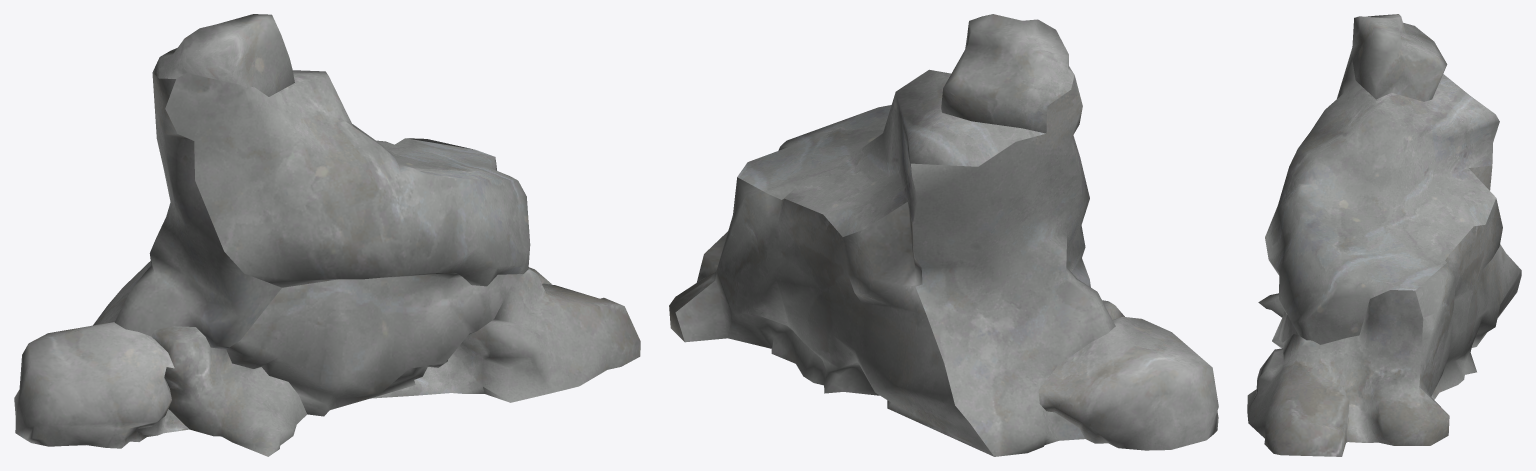
The model's file is SM_Com_Roc_32AS.fbx.
3 views of the same model, side by side, from view 1: azimuth 30°, elevation 25°; view 2: azimuth 150°, elevation 25°; view 3: azimuth 270°, elevation 25° (orthographic). The views are drawn at different scales.
Parts seen in each view (by area): view 1: SM_Com_Roc_32AS.mo; view 2: SM_Com_Roc_32AS.mo; view 3: SM_Com_Roc_32AS.mo.
Part boxes in pixels (left/top/right/bottom): SM_Com_Roc_32AS.mo: left=14, top=14, right=640, bottom=456; SM_Com_Roc_32AS.mo: left=669, top=14, right=1218, bottom=456; SM_Com_Roc_32AS.mo: left=1247, top=14, right=1521, bottom=456.
Size of the model in its own units: 8.62 by 5.48 by 4.51.
